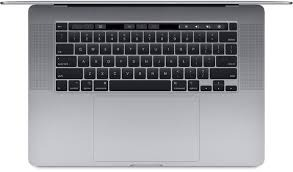keyboard: (46, 18, 243, 97)
